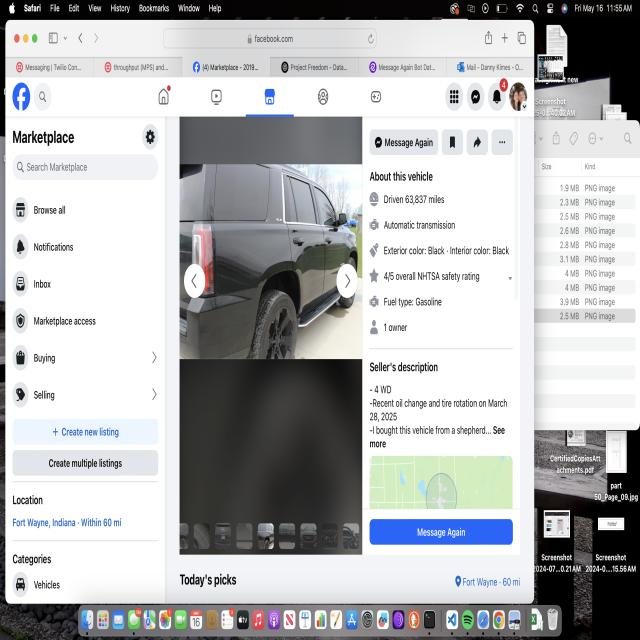message_button: (371, 519, 512, 543)
